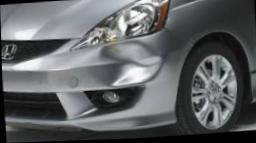Bumper: (94, 29, 184, 91)
